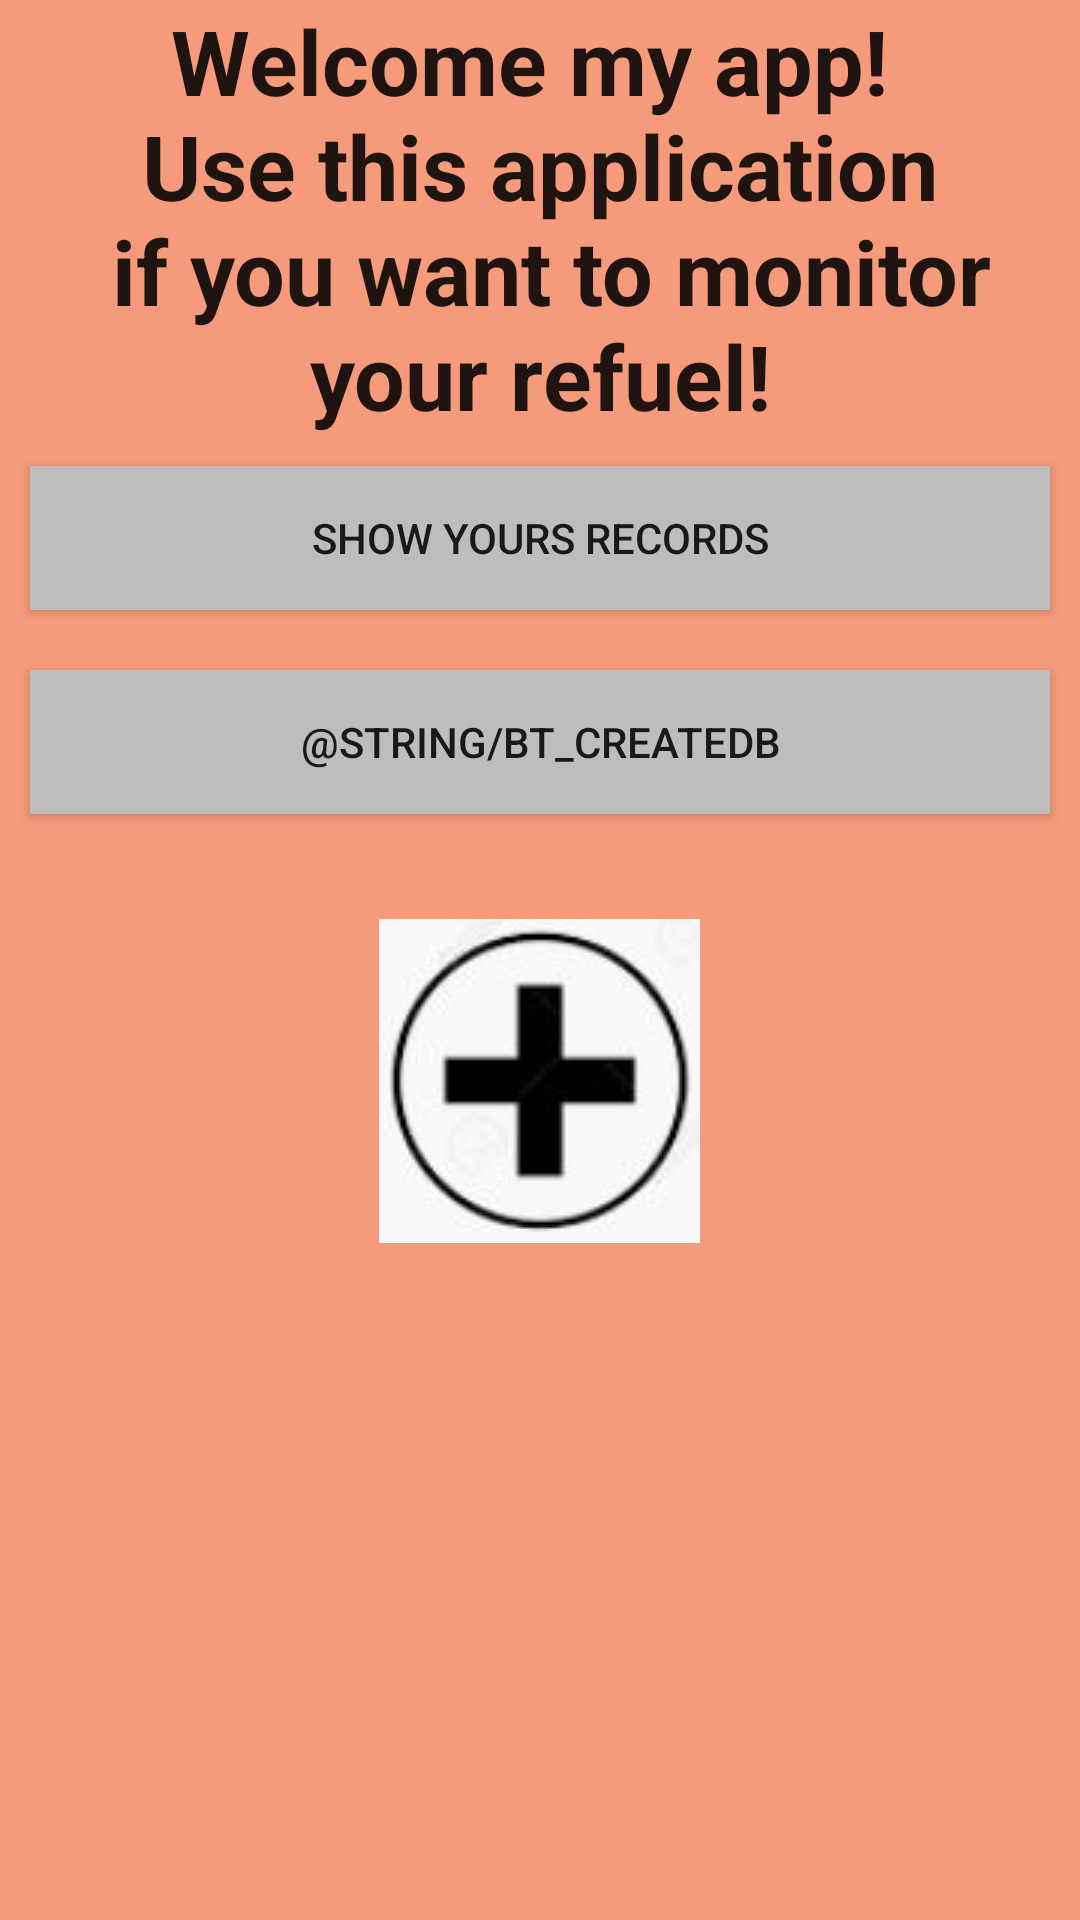

Screen size 1080 x 1920. Icon name, then its center in pixels as (x=x, y=y):
miniplus: (x=539, y=1081)
